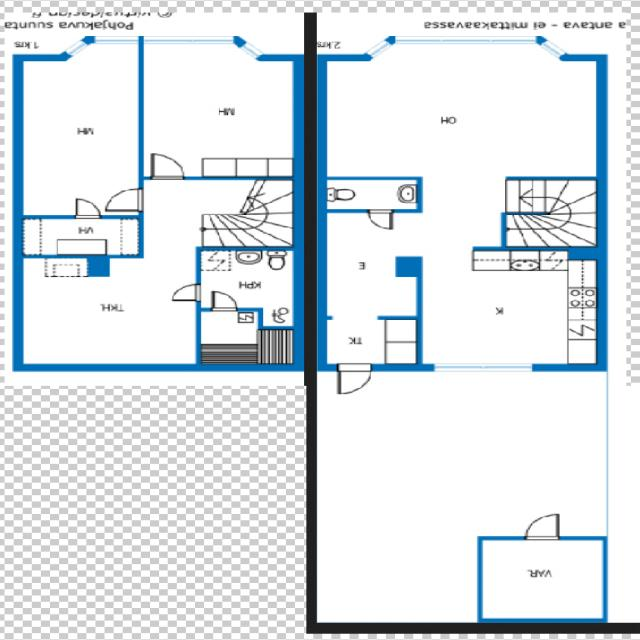door: (338, 364, 372, 394), (151, 154, 183, 179), (106, 189, 142, 210), (213, 290, 237, 311), (171, 284, 201, 300), (369, 209, 392, 229)
